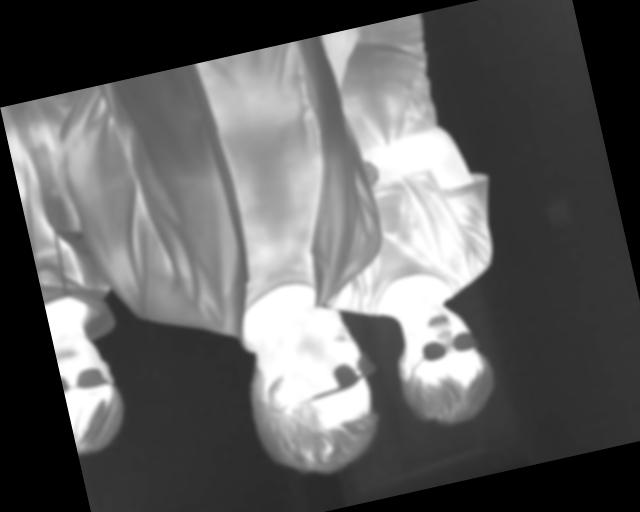face: (230, 299, 390, 490), (385, 293, 500, 436), (52, 325, 132, 457)
